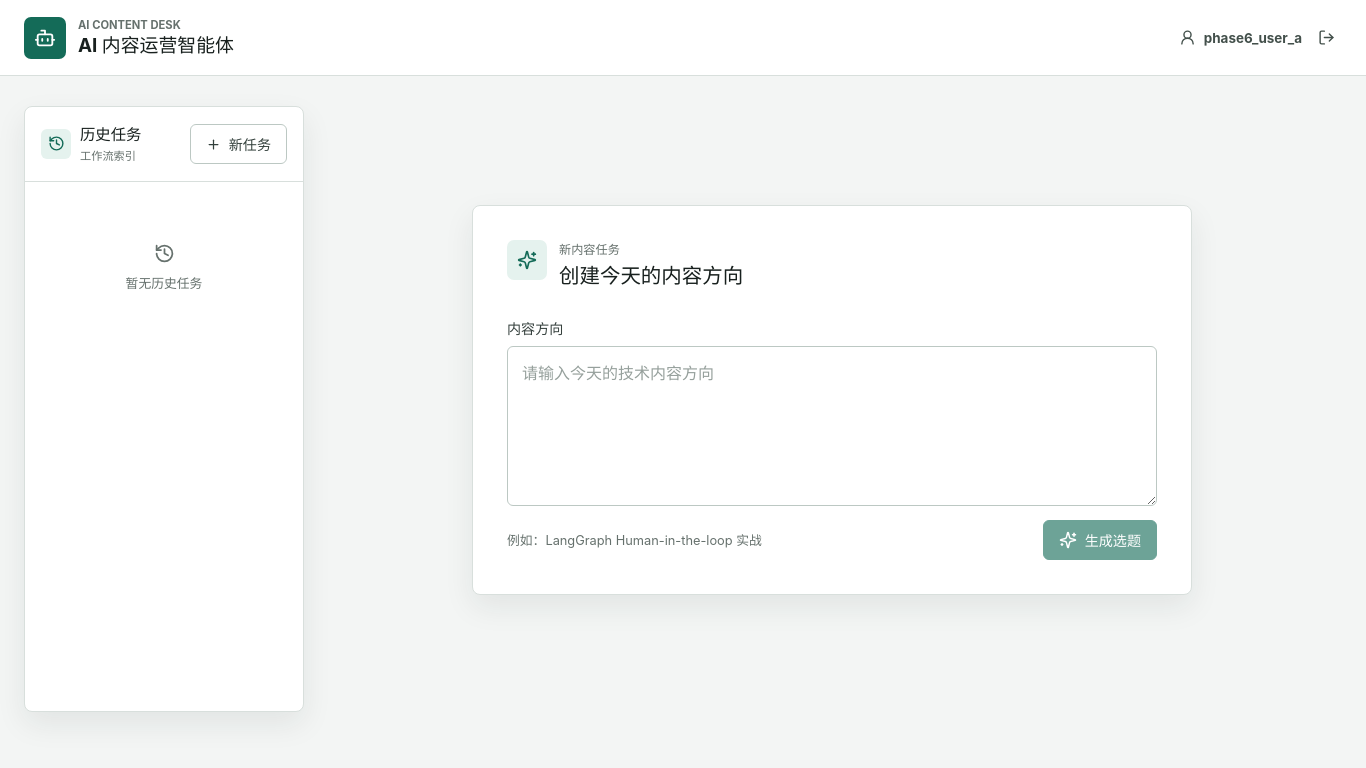
Test: AI content workflow › shows real stream progress before applying an interrupt
The width and height of the screenshot is (1366, 768).
Type "LangGraph SSE" into the text box labelled "内容方向" at {"x": 832, "y": 426}, box [507,346,1157,506]
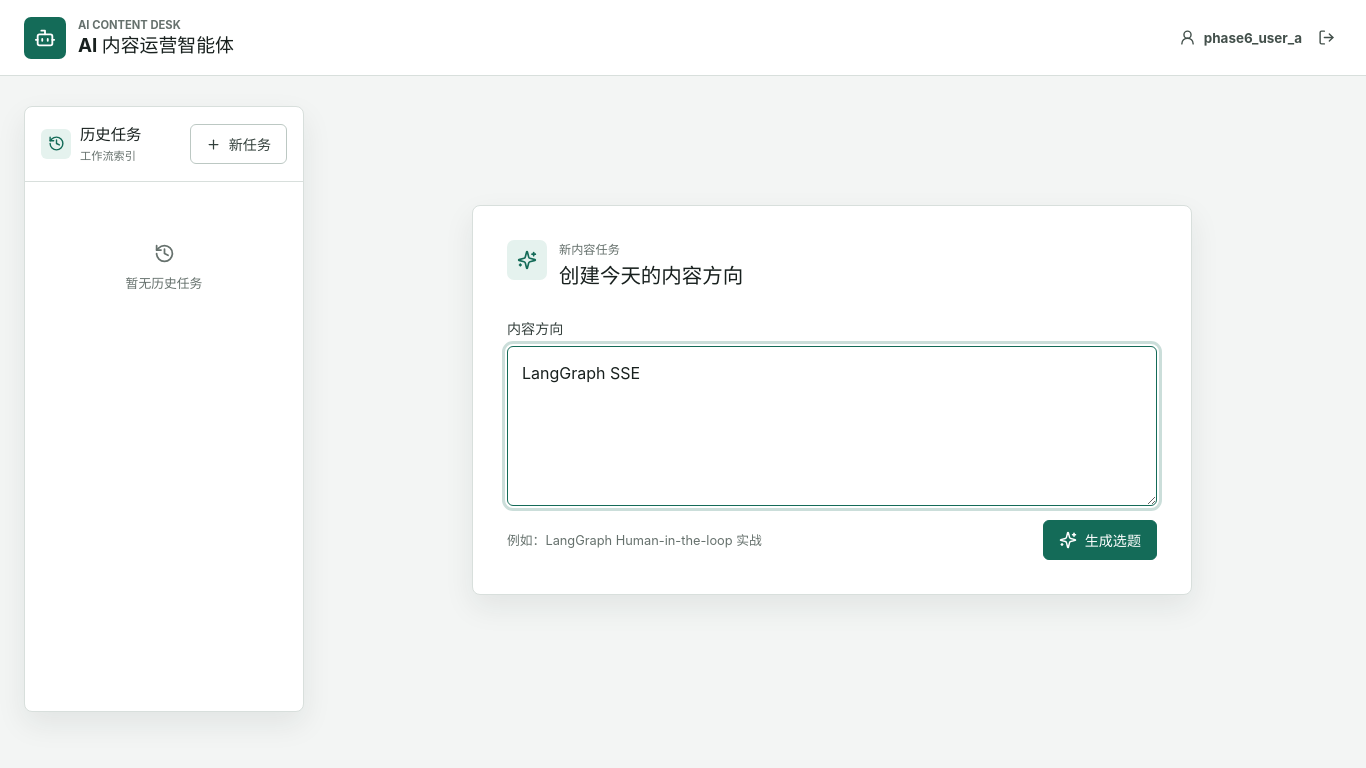
Click the button "生成选题" at {"x": 1100, "y": 540}, box [1043,520,1157,560]
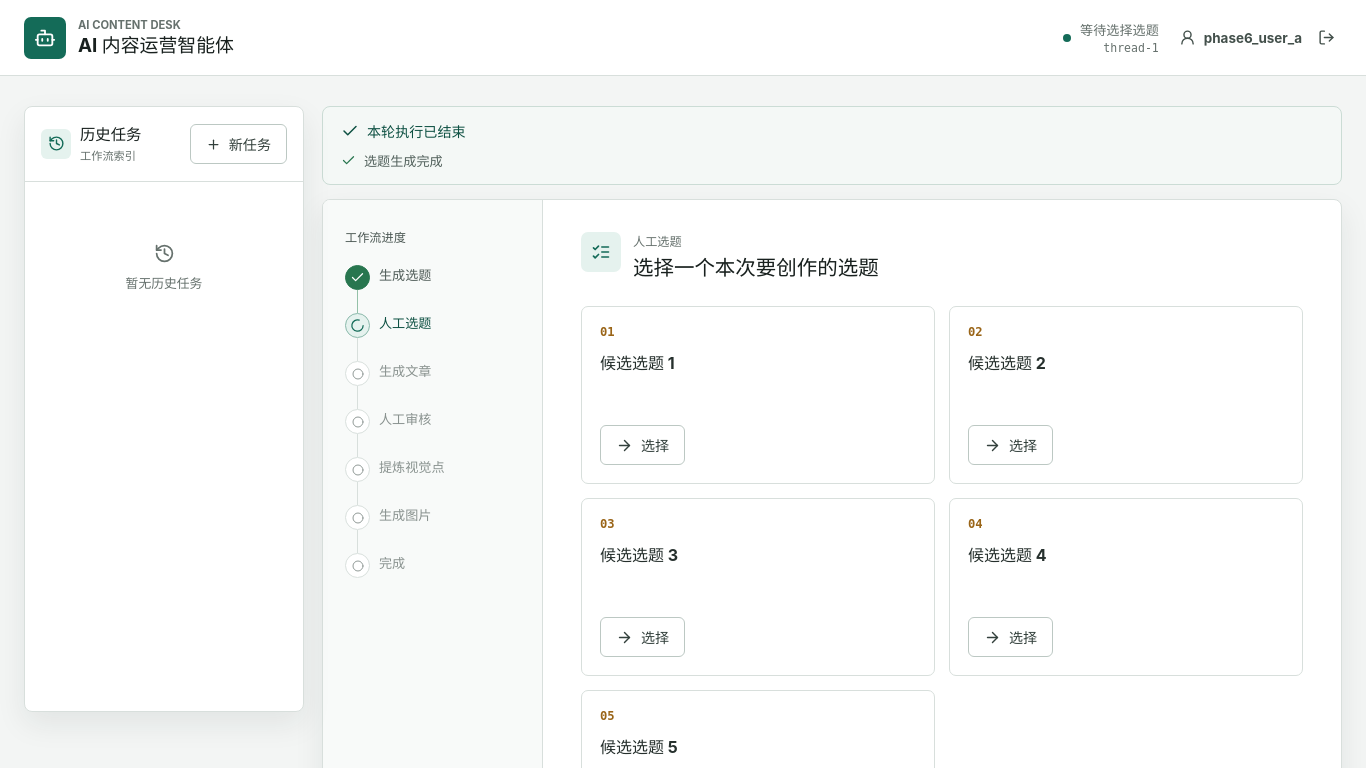
Check: the text "AI 正在处理" is shown, box [367,121,466,141]
Check: the text "选题生成完成" is shown, box [364,151,443,170]
